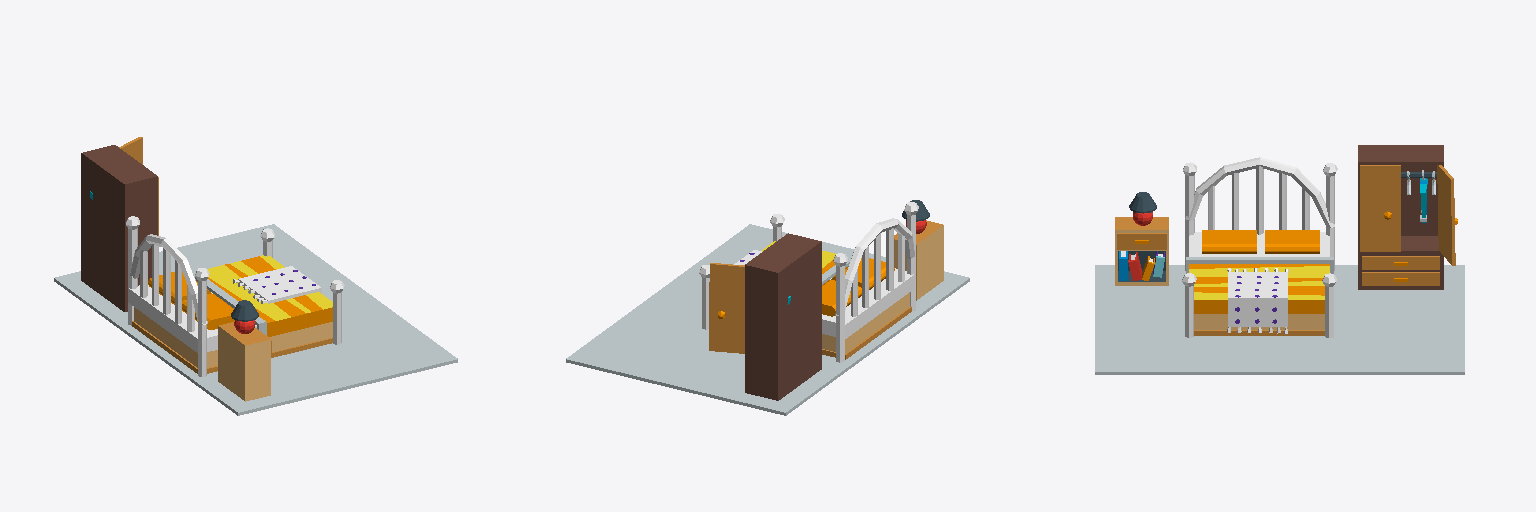
File: bedroom.obj
The picture shows the model from 3 angles: view 1: azimuth 30°, elevation 25°; view 2: azimuth 150°, elevation 25°; view 3: azimuth 270°, elevation 25°; orthographic projection.
Visible parts, largest first — view 1: group[number redacted], group[number redacted], group[number redacted], group[number redacted], group[number redacted], group[number redacted], group[number redacted], group[number redacted], group[number redacted], group[number redacted], group[number redacted], group[number redacted]; view 2: group[number redacted], group[number redacted], group[number redacted], group[number redacted], group[number redacted], group[number redacted], group[number redacted], group[number redacted], group[number redacted], group[number redacted]; view 3: group[number redacted], group[number redacted], group[number redacted], group[number redacted], group[number redacted], group[number redacted], group[number redacted], group[number redacted], group[number redacted], group[number redacted], group[number redacted], group[number redacted] (+9 smaller).
Boxes of the visible parts, <box> form: group[number redacted]: <box>54,224,457,415</box>; group[number redacted]: <box>81,145,157,311</box>; group[number redacted]: <box>128,255,332,352</box>; group[number redacted]: <box>218,322,270,401</box>; group[number redacted]: <box>134,307,332,367</box>; group[number redacted]: <box>238,266,321,303</box>; group[number redacted]: <box>130,234,207,324</box>; group[number redacted]: <box>195,268,209,376</box>; group[number redacted]: <box>132,321,332,373</box>; group[number redacted]: <box>182,293,234,329</box>; group[number redacted]: <box>126,216,139,325</box>; group[number redacted]: <box>330,280,344,344</box>; group[number redacted]: <box>566,224,969,415</box>; group[number redacted]: <box>745,233,821,400</box>; group[number redacted]: <box>709,263,744,353</box>; group[number redacted]: <box>762,241,914,338</box>; group[number redacted]: <box>894,220,943,300</box>; group[number redacted]: <box>835,218,914,315</box>; group[number redacted]: <box>822,292,909,353</box>; group[number redacted]: <box>833,253,847,362</box>; group[number redacted]: <box>904,202,918,310</box>; group[number redacted]: <box>822,280,861,316</box>; group[number redacted]: <box>1095,265,1464,374</box>; group[number redacted]: <box>1358,145,1443,289</box>; group[number redacted]: <box>1189,232,1329,313</box>; group[number redacted]: <box>1360,165,1400,251</box>; group[number redacted]: <box>1228,272,1287,326</box>; group[number redacted]: <box>1185,157,1334,227</box>; group[number redacted]: <box>1115,217,1168,285</box>; group[number redacted]: <box>1437,165,1457,265</box>; group[number redacted]: <box>1202,230,1256,253</box>; group[number redacted]: <box>1265,230,1319,253</box>; group[number redacted]: <box>1194,314,1324,329</box>; group[number redacted]: <box>1186,257,1333,273</box>.
Bounding box in the file's own units: 1.44 × 0.82 × 2.09.